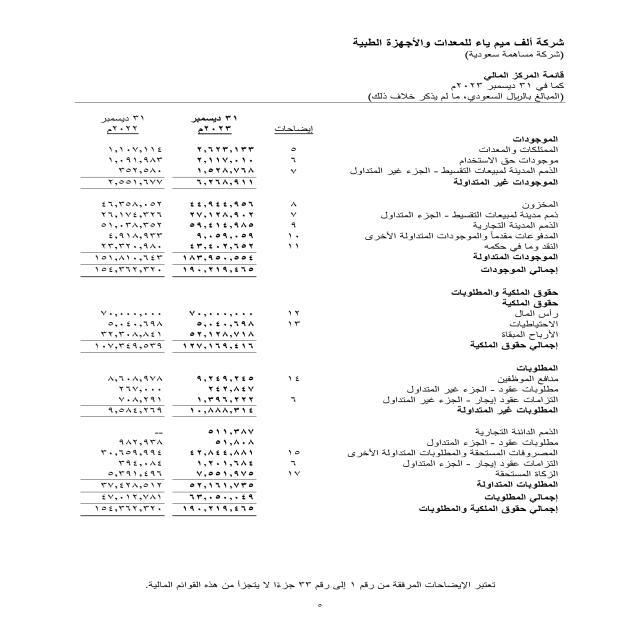financial_sheets: (482, 67, 572, 83)
table: (46, 105, 341, 527)
